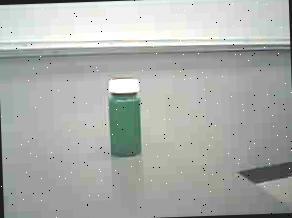Bottle C: (98, 70, 158, 164)
